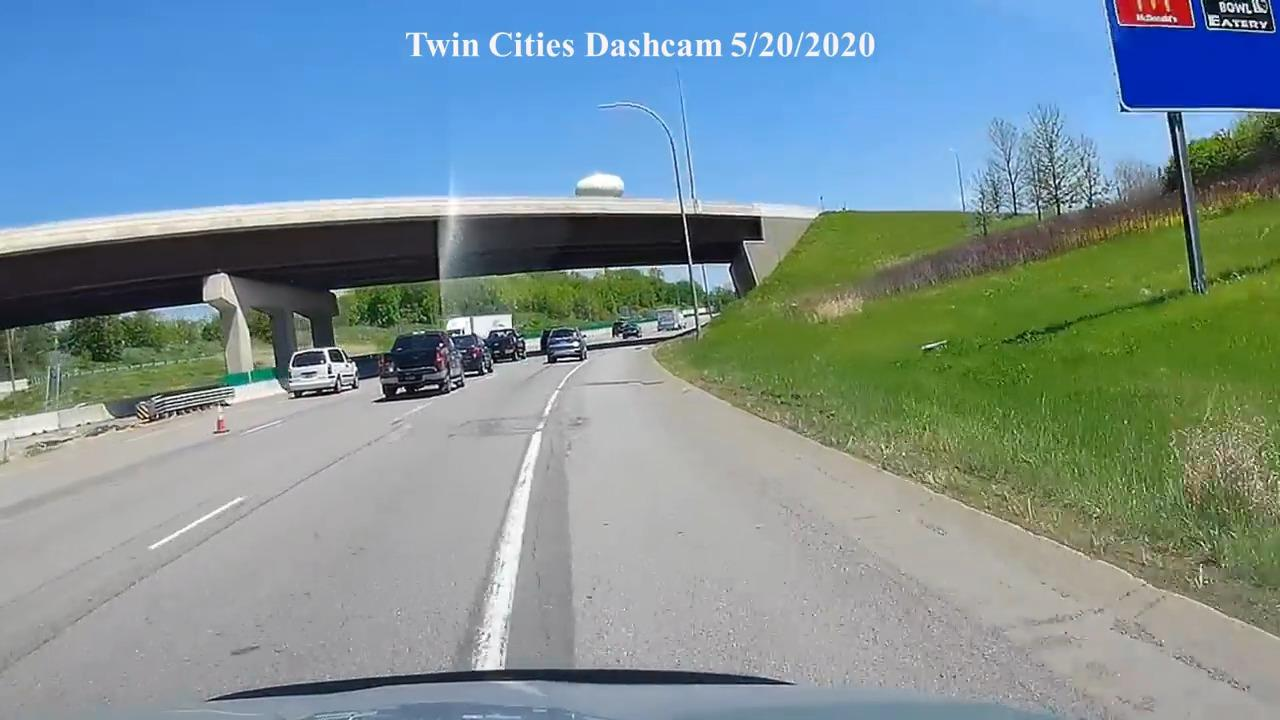car: (282, 346, 360, 399)
traffic cone: (212, 409, 230, 435)
